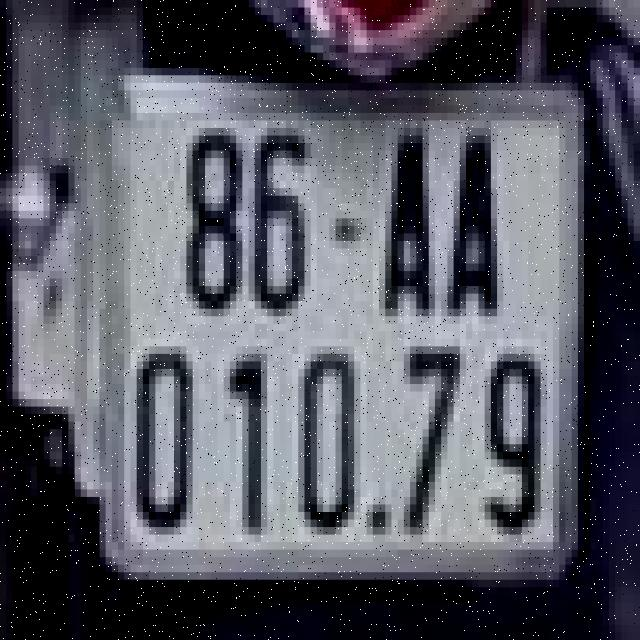0: (121, 331, 202, 542), (292, 328, 360, 554)
1: (221, 339, 270, 542)
6: (242, 109, 317, 320)
7: (391, 331, 466, 565)
8: (177, 117, 252, 320)
9: (475, 342, 550, 546)
A: (444, 109, 513, 335), (376, 113, 438, 324)
